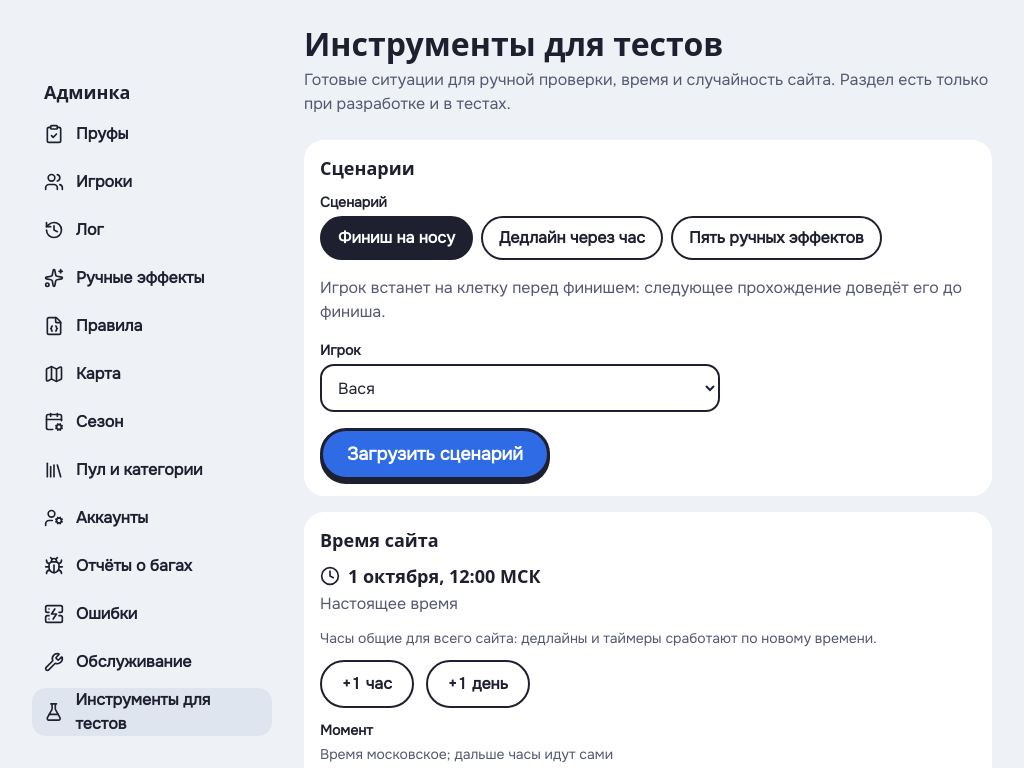
Test case: The test tools › say calmly that a scenario loaded before is already in place
Click the button with test id "scenario-load": click(435, 454) top-left (320, 428), bottom-right (550, 480)
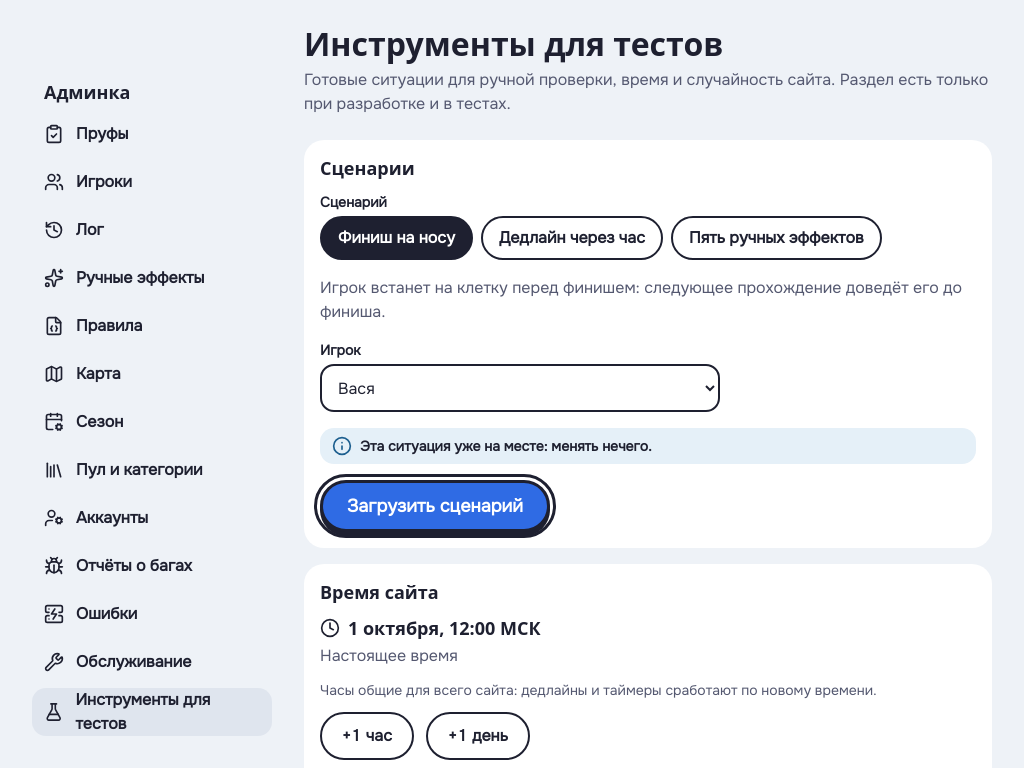
Expected: the message reads "Эта ситуация уже на месте: менять нечего.", top-left (360, 437), bottom-right (652, 455)
